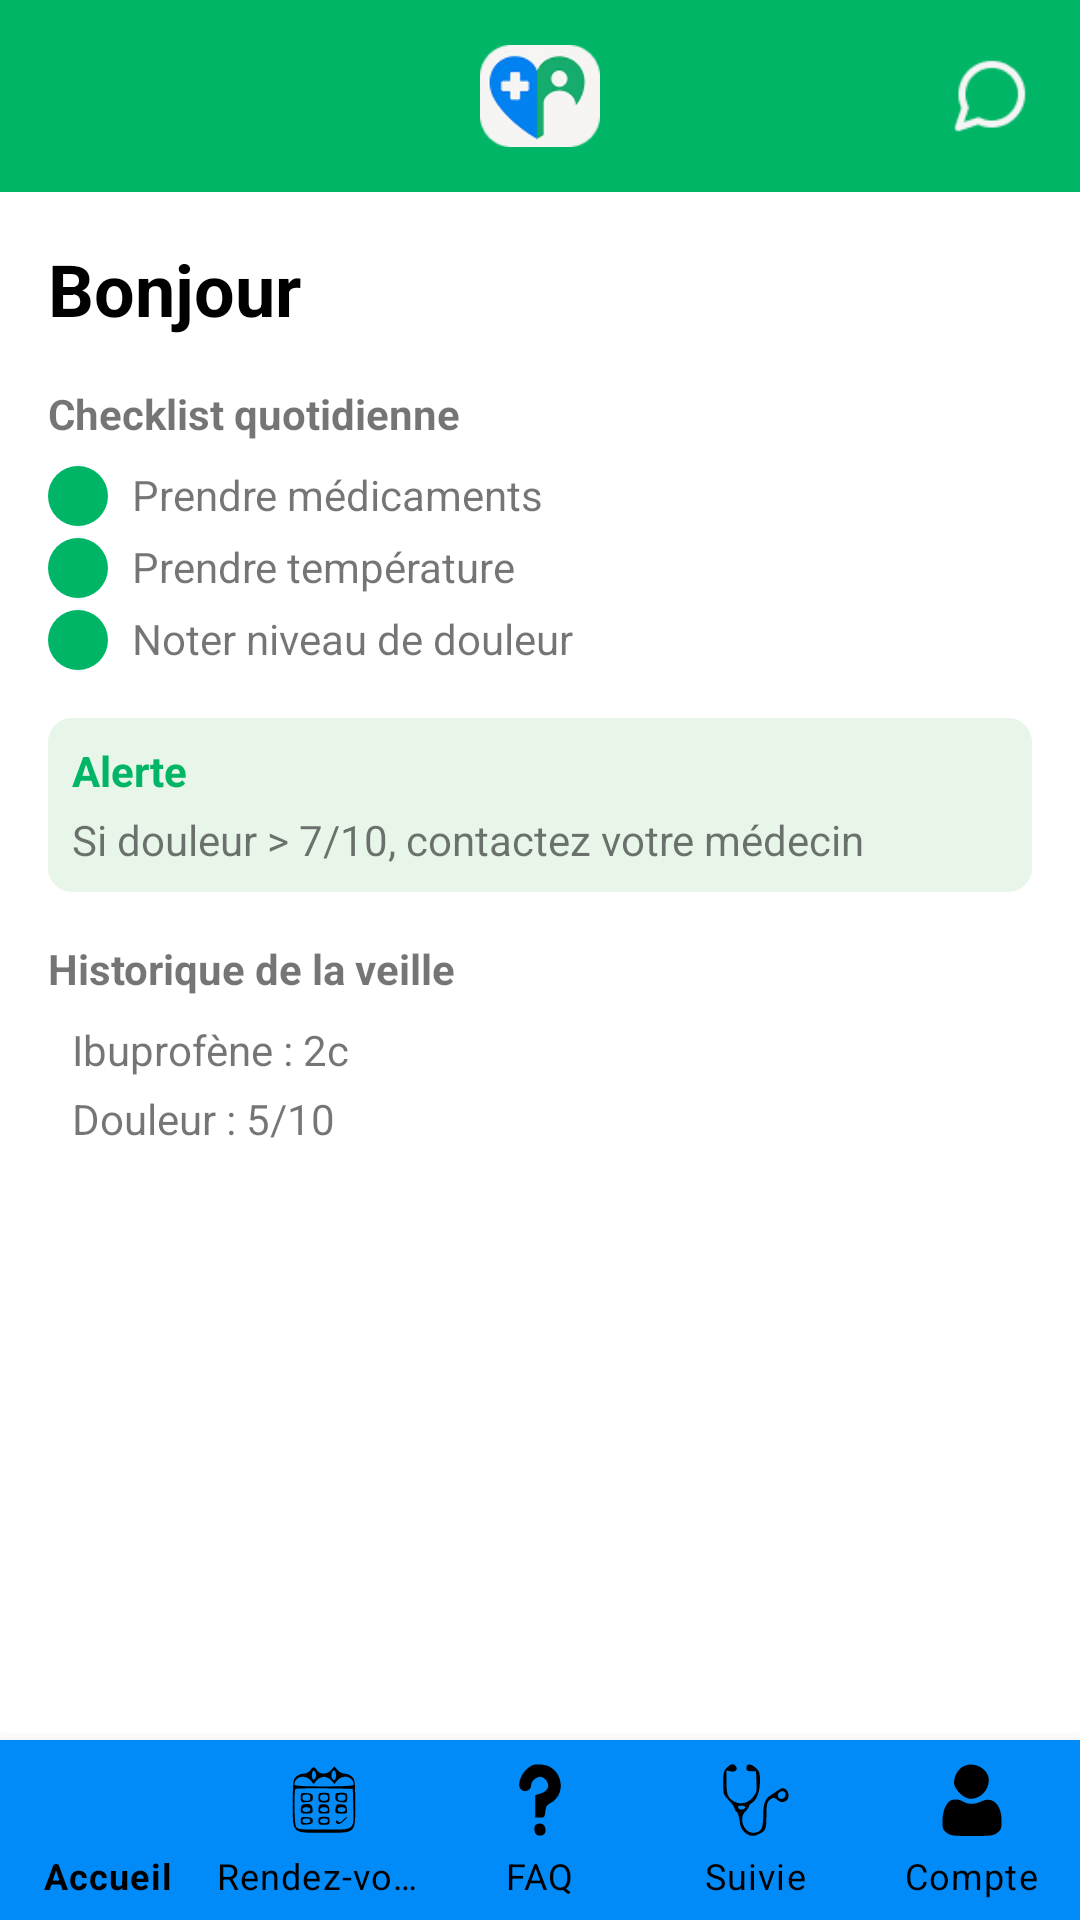

Locate icon controls on the screen. Image size 1080*1920, boxes as (x1, y1, x2, y2).
chat: (954, 60, 1026, 132)
